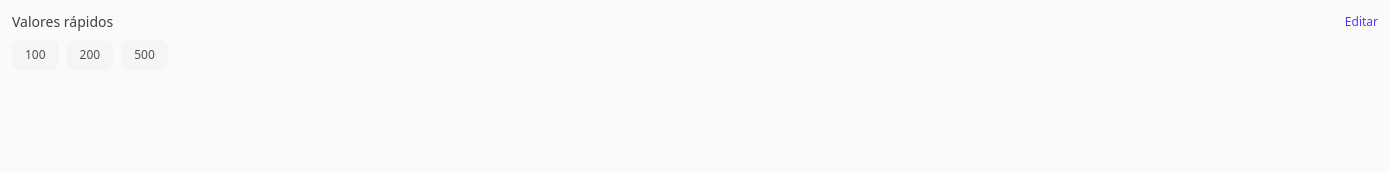
Test: QuickValuesEditor › should show the add button in edit mode
What coordinates should you click on to do the following:
click the button "Editar"
I would click on:
 (1361, 22)
Its box is [1345,14,1378,30].
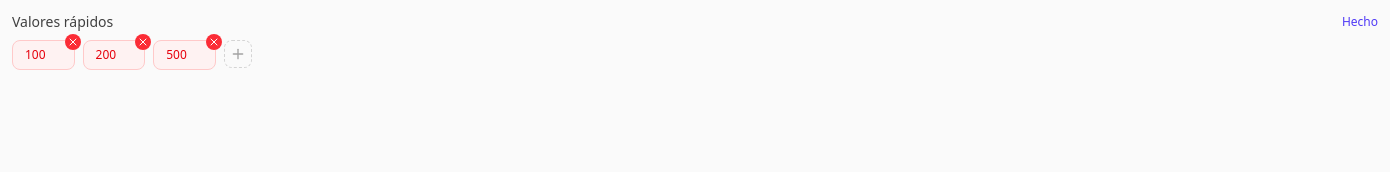
Check: the button named "Agregar valor rápido" is shown, box [224,40,252,68]
